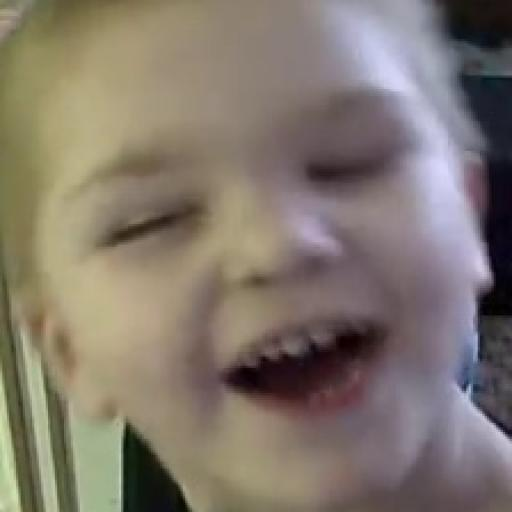Autism: (57, 25, 512, 512)
